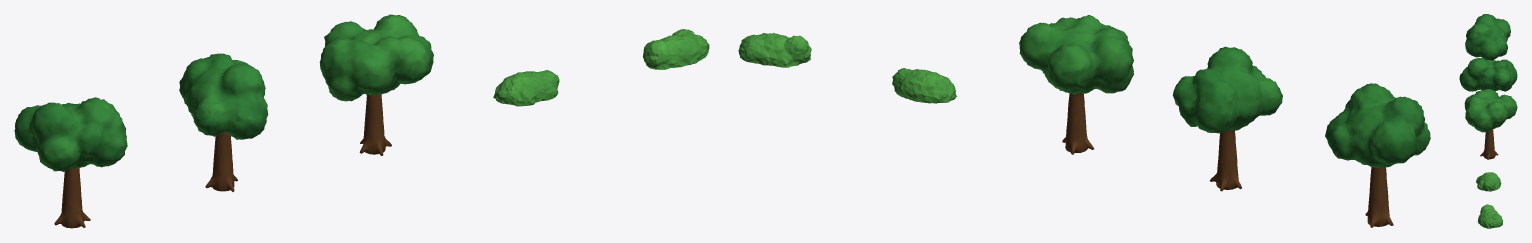
File: props.glb
3 views of the same model, side by side, from view 1: azimuth 30°, elevation 25°; view 2: azimuth 150°, elevation 25°; view 3: azimuth 270°, elevation 25° (orthographic). The views are drawn at different scales.
Visible parts, largest first — view 1: tree2, tree0, tree1, shrub1, shrub0; view 2: tree2, tree0, tree1, shrub1, shrub0; view 3: tree2, tree0, tree1, shrub1, shrub0.
Part boxes in pixels (x1,y1,x2,y2): tree2: (319,14,433,155); tree0: (14,97,127,228); tree1: (179,53,268,191); shrub1: (643,29,709,69); shrub0: (493,70,559,106); tree2: (1019,15,1133,154); tree0: (1325,83,1430,227); tree1: (1172,46,1282,191); shrub1: (738,33,811,67); shrub0: (892,68,956,103); tree2: (1464,89,1517,159); tree0: (1465,14,1510,60); tree1: (1459,58,1517,91); shrub1: (1478,204,1502,228); shrub0: (1476,172,1501,191).
Size of the model in its own units: 13.53 by 2.42 by 2.
